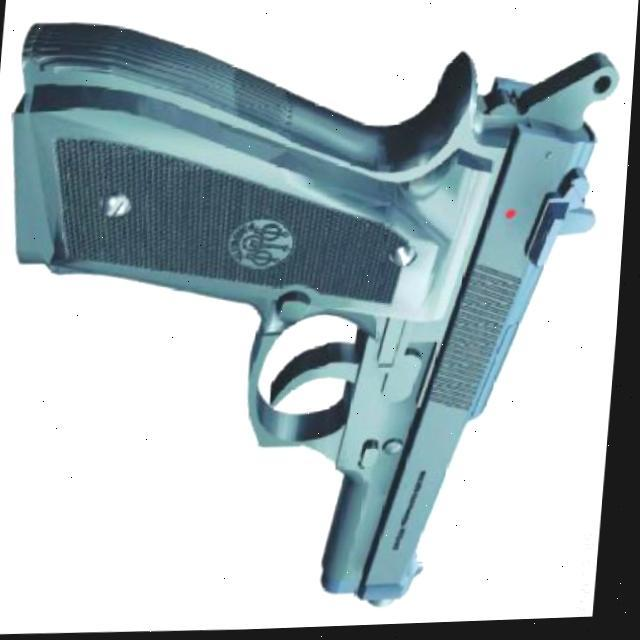gun: (0, 0, 608, 627)
